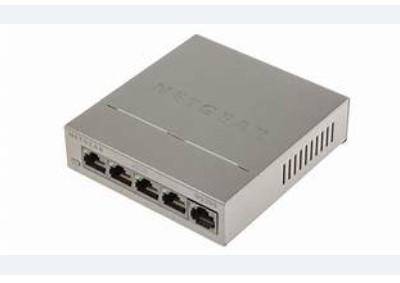NetworkSwitch: (64, 35, 352, 247)
